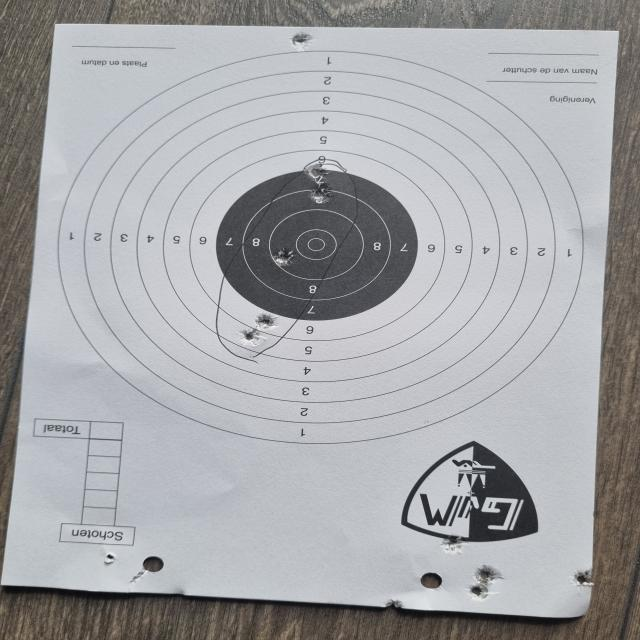0: (444, 532, 468, 554), (475, 564, 499, 583), (290, 30, 312, 49), (572, 569, 591, 587), (468, 584, 488, 599)
6: (239, 328, 264, 347), (253, 312, 276, 330)
7: (305, 164, 327, 184)
8: (311, 186, 334, 204)
9: (271, 248, 295, 268)
Target: (58, 56, 586, 445)
